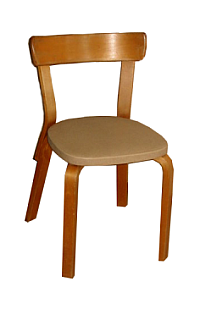chair: (17, 26, 177, 283)
